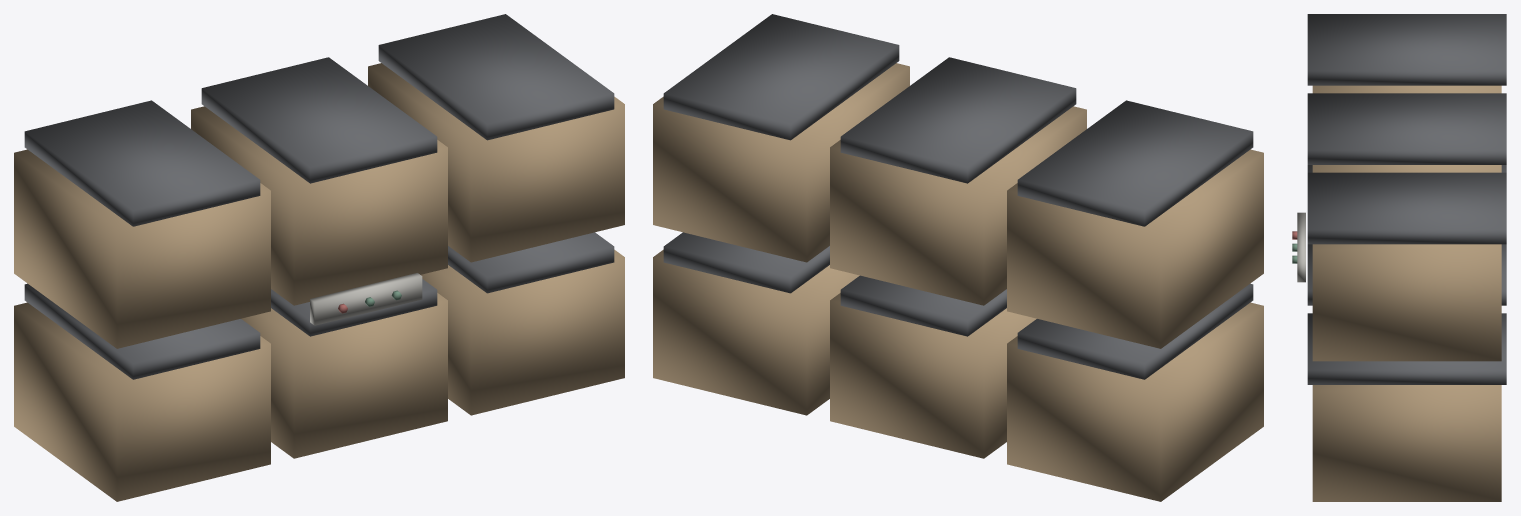
Rendered from produce_stand__deep.glb.
3 renders of one model, left to right at view 1: azimuth 30°, elevation 25°; view 2: azimuth 150°, elevation 25°; view 3: azimuth 270°, elevation 25°, orthographic. The views are drawn at different scales.
Parts seen in each view (by area): view 1: world; view 2: world; view 3: world.
Part boxes in pixels (x1,y1,x2,y2): world: (14, 14, 624, 501); world: (653, 14, 1263, 501); world: (1292, 14, 1506, 501).
Bounding box in the file's own units: 1.32 × 0.72 × 0.5258.
